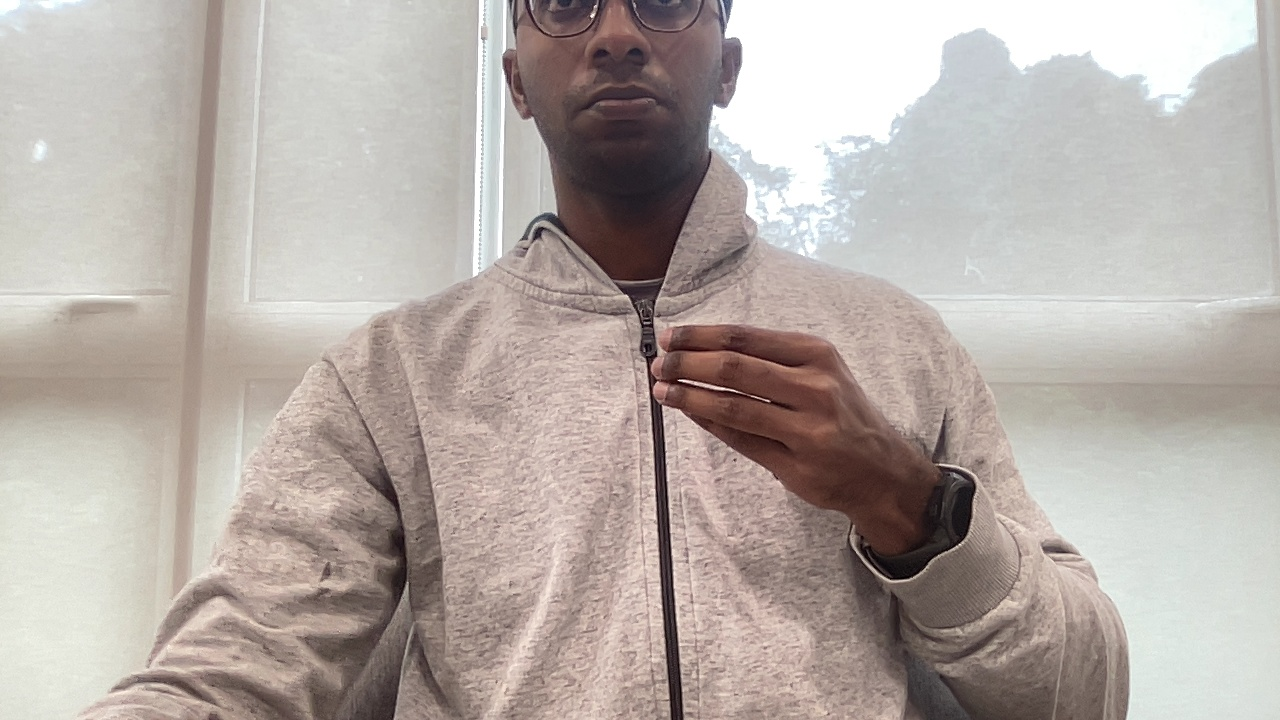drink: (644, 315, 907, 515)
